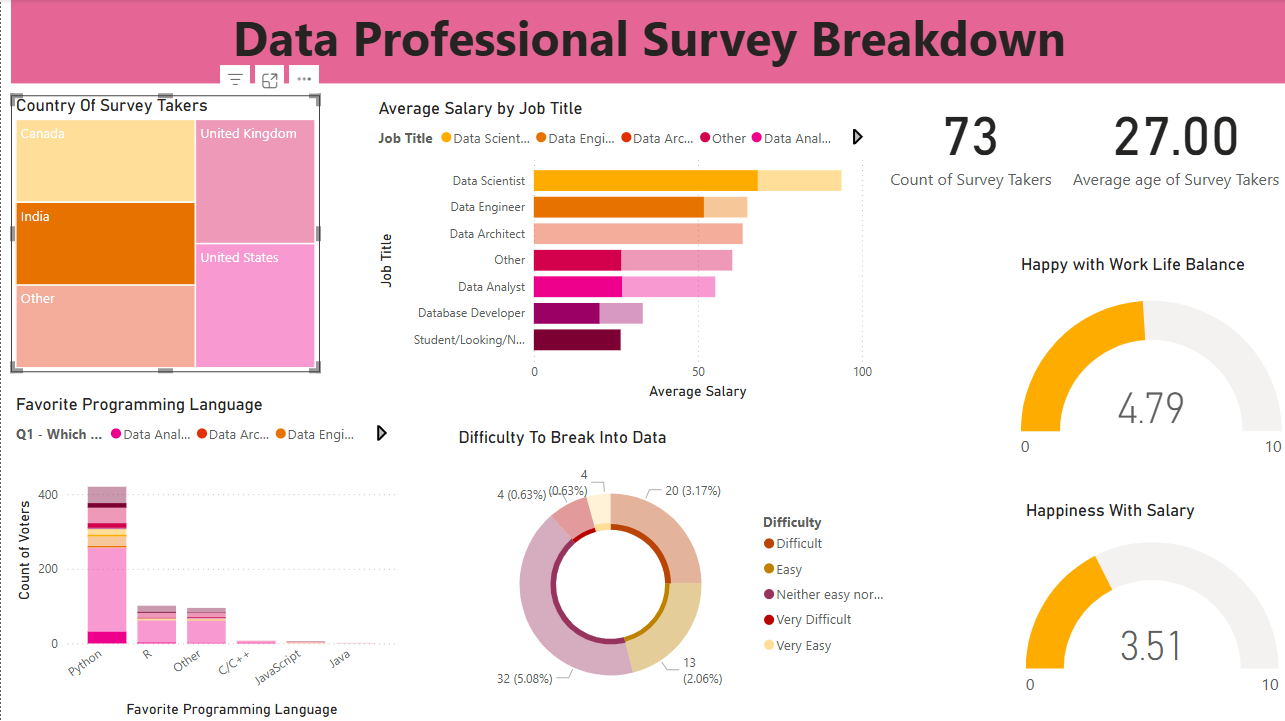

What the dashboard file says about the page in this screenshot:
{"tool":"powerbi","page":{"name":"Page 1","canvas":[1280,720],"ordinal":0},"visuals":[{"type":"textbox","box":[9.6,0,1270.7,83.7],"z":0},{"type":"card","fields":{"Values":["CountNonNull(Data Professional Survey.Unique ID)"]},"box":[870,83.7,188,149.6],"z":1000},{"type":"card","fields":{"Values":["Avg(Data Professional Survey.Q10 - Current Age)"]},"box":[1058,85.1,222.3,148.2],"z":2000},{"type":"filledMap","title":"Average Salary by Job Title","fields":{"Series":["Data Professional Survey.Q11 - Which Country do you live in?.1"]},"box":[705.5,374.5,463.1,284.7],"z":3000},{"type":"columnChart","title":"Favorite Programming Language","fields":{"Category":["Data Professional Survey.Q5 - Favorite Programming Language.1"],"Y":["CountNonNull(Data Professional Survey.Unique ID)"],"Series":["Data Professional Survey.Q1 - Which Title Best Fits your Current Role?.1"]},"box":[9.5,498.5,341.9,222],"z":4000},{"type":"barChart","title":"Average Salary by Job Title","fields":{"Category":["Data Professional Survey.Q1 - Which Title Best Fits your Current Role?.1"],"Y":["Avg(Data Professional Survey.Average Salary)"],"Series":["Data Professional Survey.Q1 - Which Title Best Fits your Current Role?.1"]},"box":[9.5,84.4,603.4,373.2],"z":4001}]}

Visuals, with their boxes on the page's 1280x720 design canvas (x1, y1, x2, y2). These are canvas units, not pixel positions in the 1285x721 screenshot, which may show the page scaled, cropped or inside an application window:
textbox: (10, 0, 1280, 84)
card - CountNonNull(Data Professional Survey.Unique ID): (870, 84, 1058, 233)
card - Avg(Data Professional Survey.Q10 - Current Age): (1058, 85, 1280, 233)
"Average Salary by Job Title" filledMap: (706, 374, 1169, 659)
"Favorite Programming Language" columnChart: (10, 498, 351, 720)
"Average Salary by Job Title" barChart: (10, 84, 613, 458)
